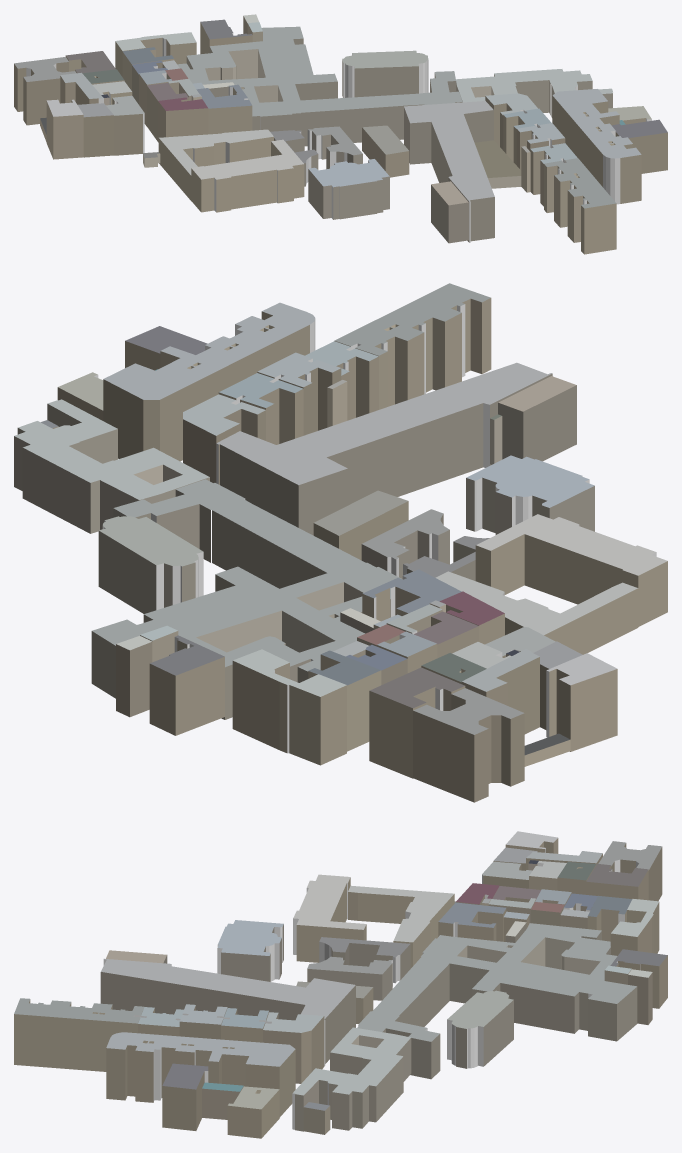
3 renders of one model, top to bottom at view 1: azimuth 30°, elevation 25°; view 2: azimuth 150°, elevation 25°; view 3: azimuth 270°, elevation 25°, orthographic. The views are drawn at different scales.
Parts seen in each view (by area): view 1: tuile; view 2: tuile; view 3: tuile.
Part boxes in pixels (bbox=[...]): tuile: bbox=[14, 14, 667, 254]; tuile: bbox=[14, 283, 667, 802]; tuile: bbox=[14, 831, 667, 1138].
Size of the model in its own units: 262 by 26.89 by 283.
